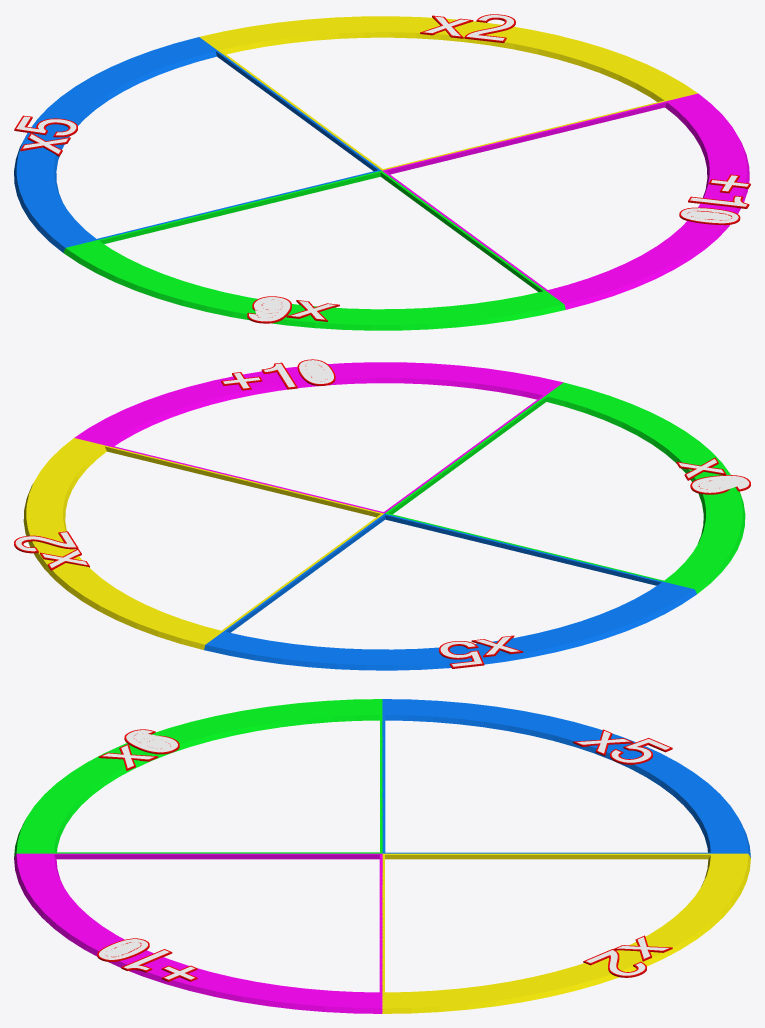
The model's file is Circle_Numbers.fbx.
3 views of the same model, one above another, from view 1: azimuth 30°, elevation 25°; view 2: azimuth 150°, elevation 25°; view 3: azimuth 270°, elevation 25° (orthographic). The views are drawn at different scales.
Parts seen in each view (by area): view 1: Segment_x2_line, Segment_x6, Segment_+10, Segment_x5, Segment_x6_line, Segment_+10_line, Segment_x5_line; view 2: Segment_x2_line, Segment_x5, Segment_+10, Segment_x6, Segment_x5_line, Segment_x6_line, Segment_+10_line; view 3: Segment_x2_line, Segment_+10, Segment_x5, Segment_x6, Segment_+10_line, Segment_x5_line, Segment_x6_line, Segment_x2.
Boxes of the visible parts, <box> form: Segment_x2_line: <box>199,14,697,170</box>; Segment_x6: <box>63,240,565,330</box>; Segment_+10: <box>546,93,750,309</box>; Segment_x5: <box>14,37,217,252</box>; Segment_x6_line: <box>64,170,565,314</box>; Segment_+10_line: <box>382,93,707,309</box>; Segment_x5_line: <box>50,37,381,252</box>; Segment_x2_line: <box>14,438,383,649</box>; Segment_x5: <box>204,581,696,670</box>; Segment_+10: <box>74,359,563,445</box>; Segment_x6: <box>546,382,750,593</box>; Segment_x5_line: <box>204,513,696,654</box>; Segment_x6_line: <box>385,382,708,593</box>; Segment_+10_line: <box>76,377,561,513</box>; Segment_x2_line: <box>382,853,750,1013</box>; Segment_+10: <box>14,853,382,1013</box>; Segment_x5: <box>382,699,749,853</box>; Segment_x6: <box>15,699,382,850</box>; Segment_+10_line: <box>14,853,382,1013</box>; Segment_x5_line: <box>382,699,750,857</box>; Segment_x6_line: <box>14,699,382,857</box>; Segment_x2: <box>382,853,745,1013</box>.
Bounding box in the file's own units: 146 × 1.32 × 146.
Materials: 1 (1 with a texture image).
